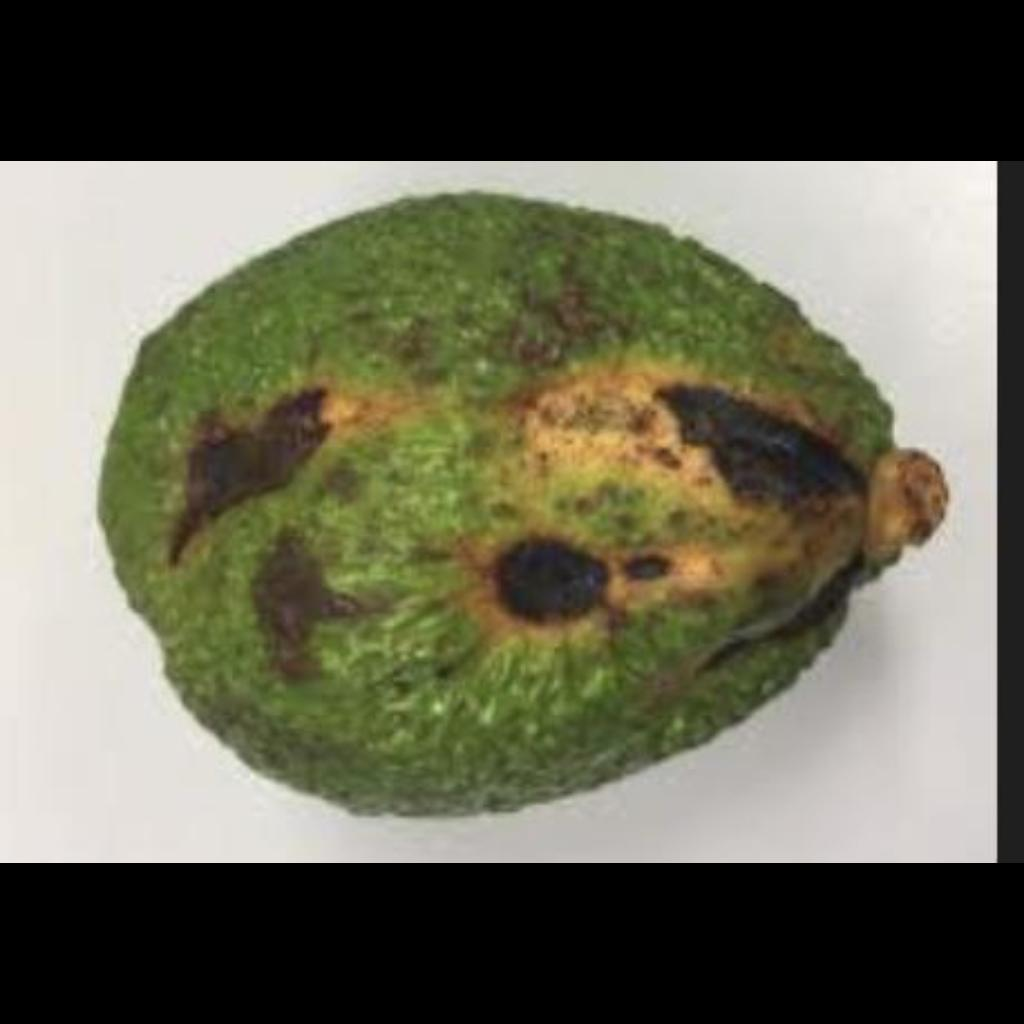sunblotch: (85, 219, 957, 809)
